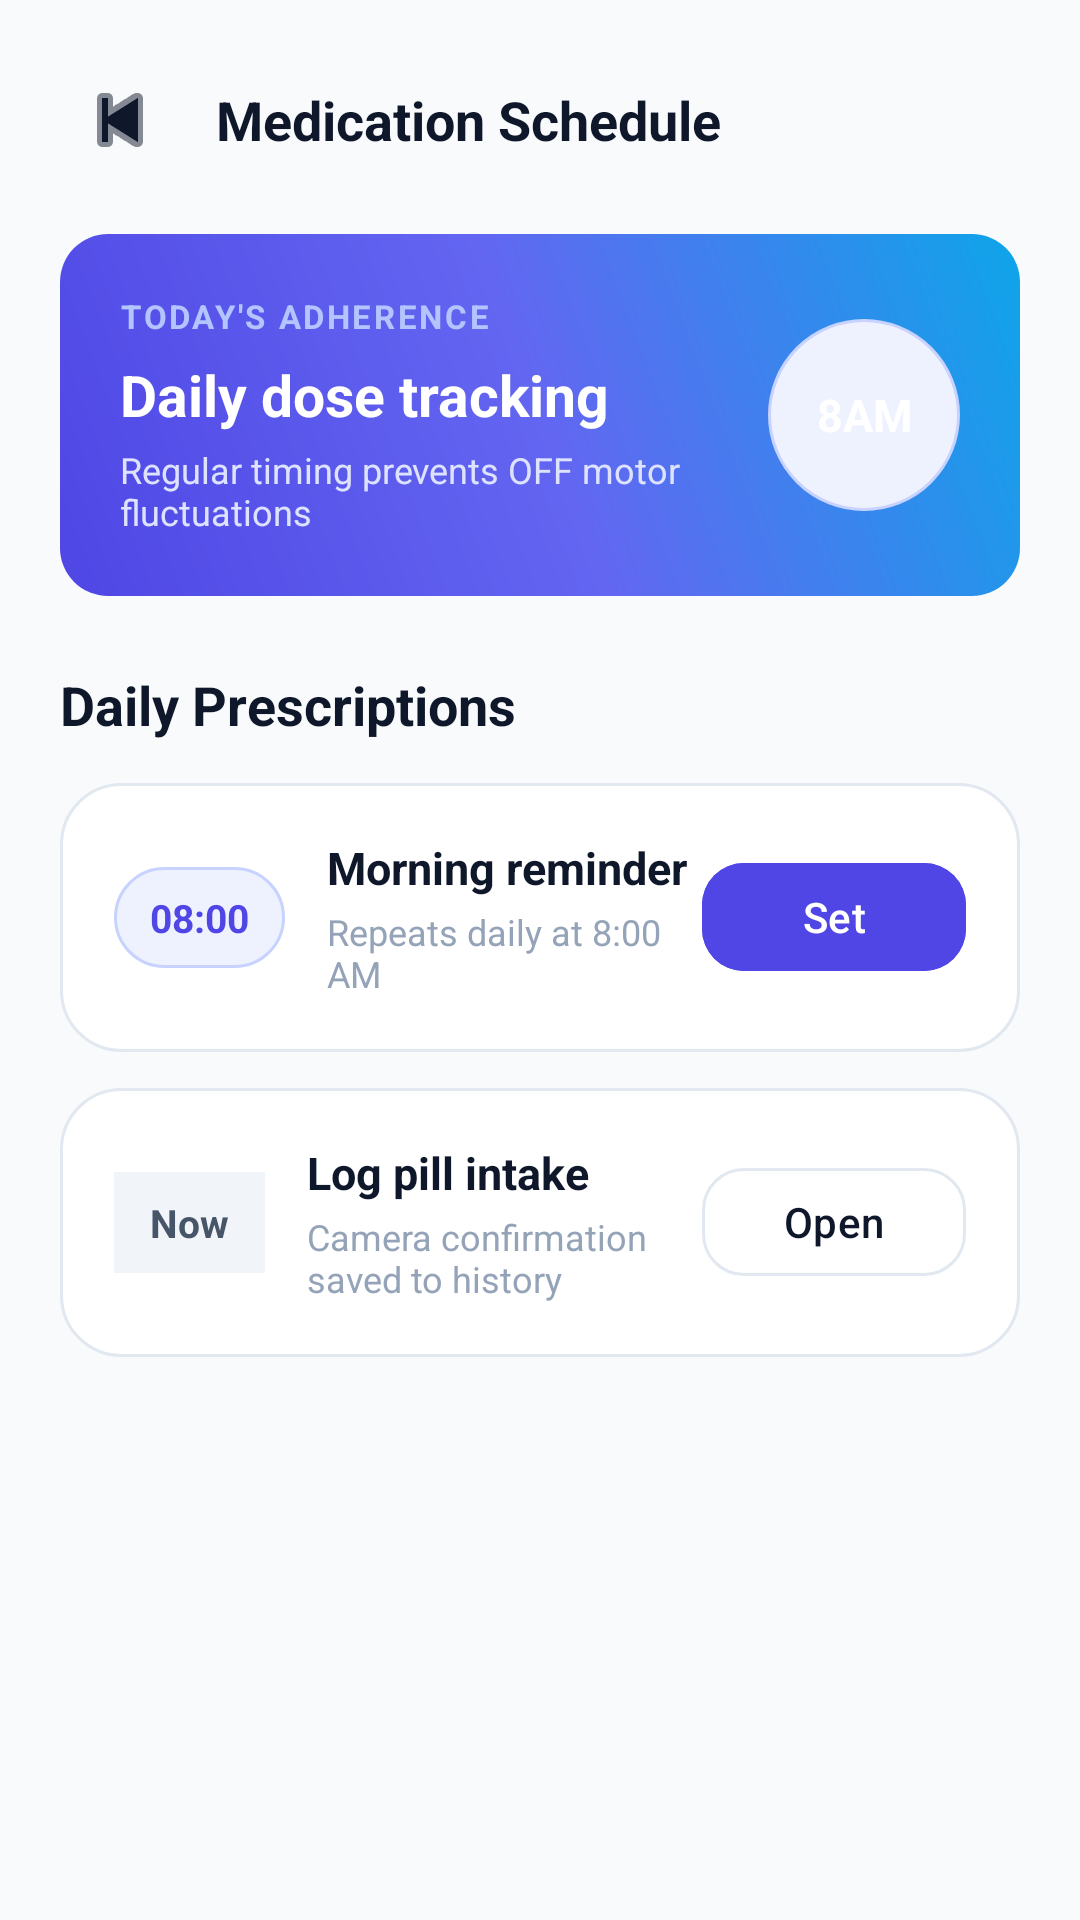

Icons on this 1080w x 1920h Android screen, each with the point to tap as [x,y]:
Back: [120,120]
